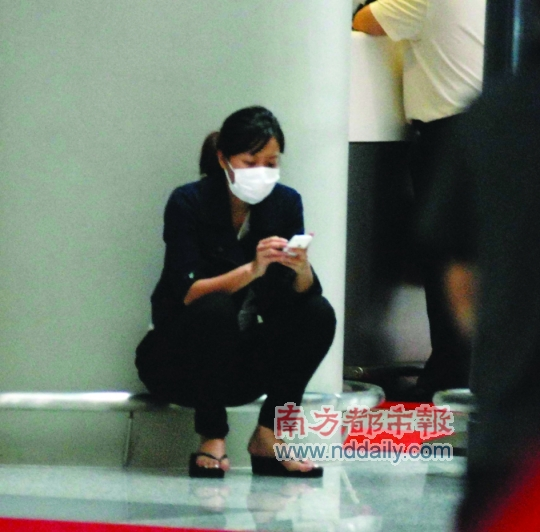mask: (227, 162, 284, 206)
